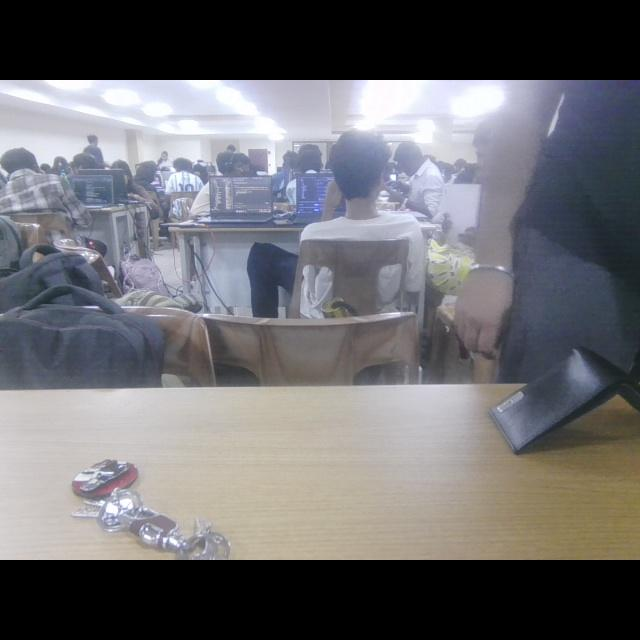keys: (70, 454, 244, 558)
wallet: (488, 345, 640, 459)
